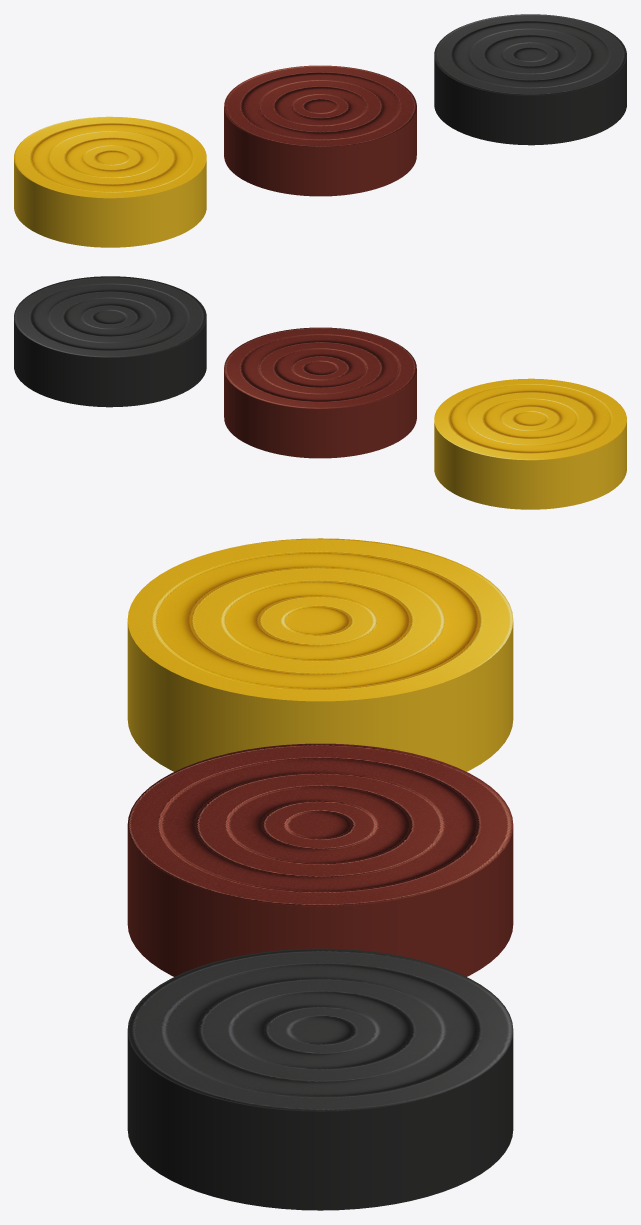
Rendered from CoinsDesign1.fbx.
3 renders of one model, top to bottom at view 1: azimuth 30°, elevation 25°; view 2: azimuth 150°, elevation 25°; view 3: azimuth 270°, elevation 25°, orthographic. The views are drawn at different scales.
Parts seen in each view (by area): view 1: RedCoinDesign1, BlackCoinDesign1, WhiteCoinDesign1; view 2: RedCoinDesign1, BlackCoinDesign1, WhiteCoinDesign1; view 3: BlackCoinDesign1, WhiteCoinDesign1, RedCoinDesign1.
Part boxes in pixels (left/top/right/bottom): RedCoinDesign1: left=224, top=65, right=416, bottom=196; BlackCoinDesign1: left=434, top=14, right=626, bottom=145; WhiteCoinDesign1: left=14, top=116, right=206, bottom=247; RedCoinDesign1: left=224, top=327, right=416, bottom=458; BlackCoinDesign1: left=14, top=276, right=206, bottom=407; WhiteCoinDesign1: left=434, top=378, right=626, bottom=509; BlackCoinDesign1: left=127, top=948, right=513, bottom=1210; WhiteCoinDesign1: left=127, top=538, right=513, bottom=771; RedCoinDesign1: left=127, top=743, right=513, bottom=976.
Bounding box in the file's own units: 0.1118 × 0.009 × 0.0318.
3 materials, 3 textured.
